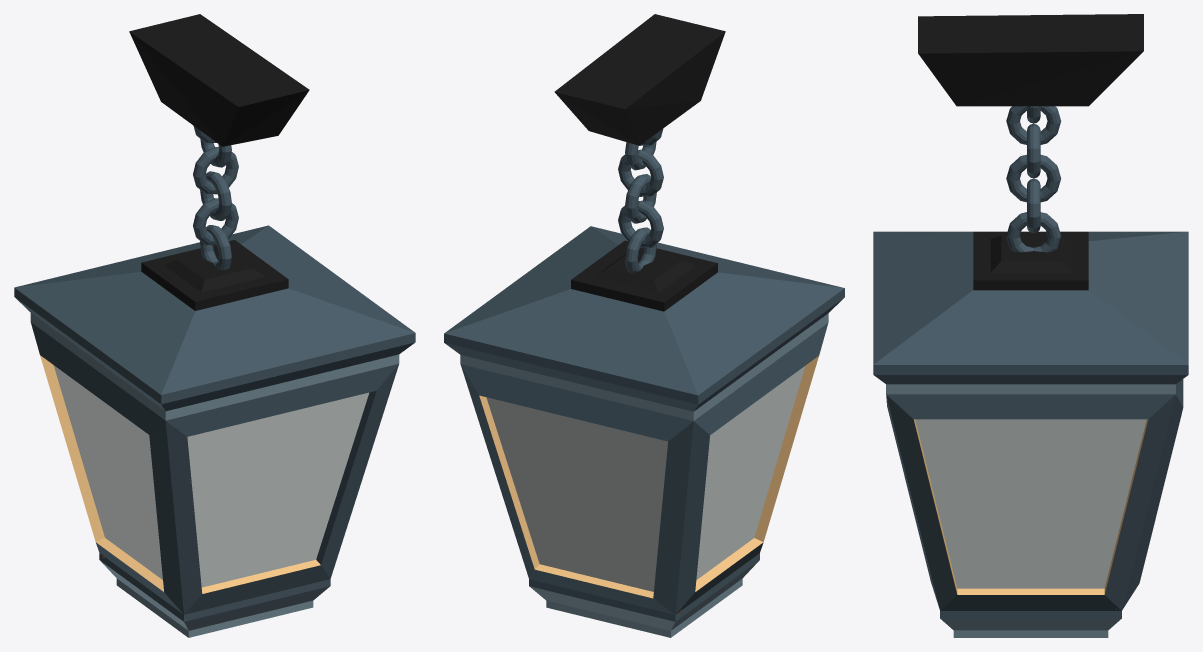
The model's file is Candle_Lantern.glb.
3 views of the same model, side by side, from view 1: azimuth 30°, elevation 25°; view 2: azimuth 150°, elevation 25°; view 3: azimuth 270°, elevation 25° (orthographic). The views are drawn at different scales.
Parts seen in each view (by area): view 1: group142796565, group820950536, group1893448725, group1505957573, group1912993665, group394345910, group368409847; view 2: group142796565, group820950536, group1893448725, group1505957573, group1912993665, group394345910, group368409847; view 3: group142796565, group820950536, group1893448725, group368409847, group394345910, group1417286851, group1505957573, group1912993665.
Boxes of the visible parts, box(x1,y1,x2,y2) form: group142796565: box(14, 225, 415, 637); group820950536: box(129, 14, 309, 146); group1893448725: box(141, 240, 288, 310); group1505957573: box(193, 198, 238, 245); group1912993665: box(193, 147, 238, 194); group394345910: box(200, 225, 231, 270); group368409847: box(200, 171, 231, 220); group142796565: box(444, 226, 844, 637); group820950536: box(554, 14, 725, 145); group1893448725: box(571, 240, 717, 311); group1505957573: box(618, 200, 663, 247); group1912993665: box(618, 149, 663, 196); group394345910: box(625, 227, 656, 272); group368409847: box(625, 174, 656, 223); group142796565: box(873, 231, 1188, 637); group820950536: box(918, 14, 1143, 106); group1893448725: box(973, 231, 1088, 290); group368409847: box(1006, 154, 1061, 202); group394345910: box(1006, 212, 1060, 252); group1417286851: box(1006, 106, 1061, 144); group1505957573: box(1027, 178, 1040, 233); group1912993665: box(1027, 123, 1040, 178).
Size of the model in its own units: 0.573 by 1.17 by 0.573.
